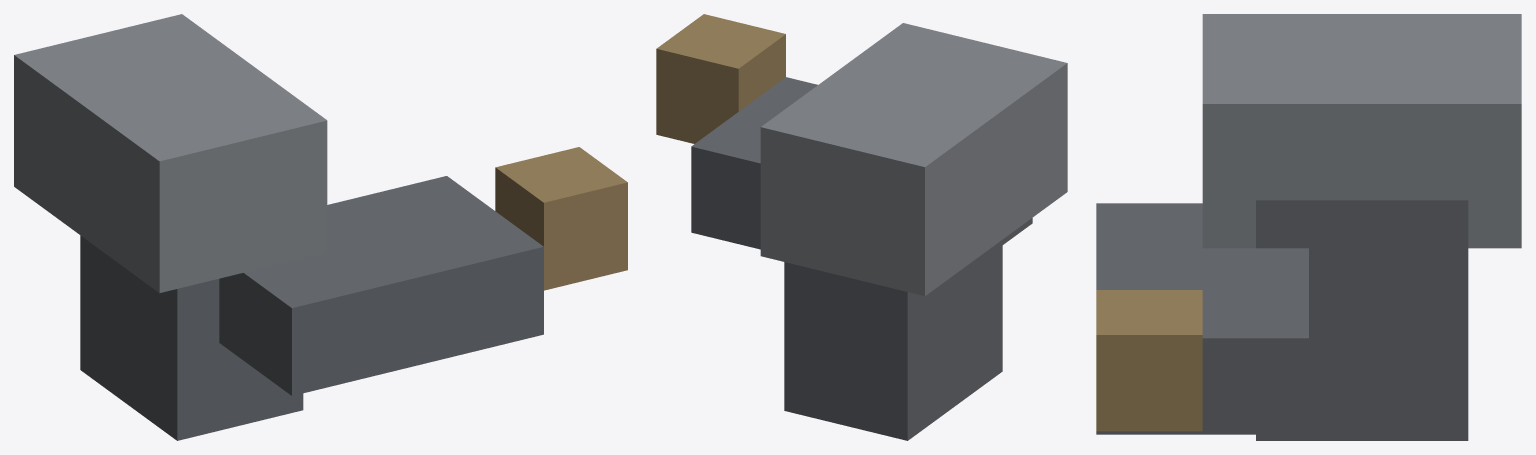
Rendered from left_arm.glb.
3 renders of one model, left to right at view 1: azimuth 30°, elevation 25°; view 2: azimuth 150°, elevation 25°; view 3: azimuth 270°, elevation 25°, orthographic. The views are drawn at different scales.
Bounding box in the file's own units: 10 × 7 × 8.
